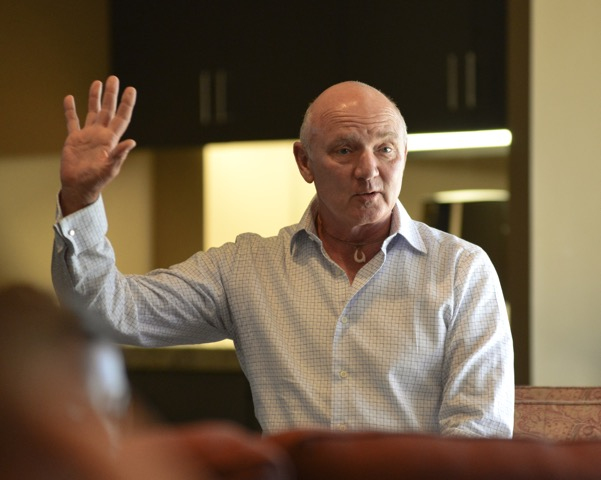hand: (58, 75, 136, 191)
